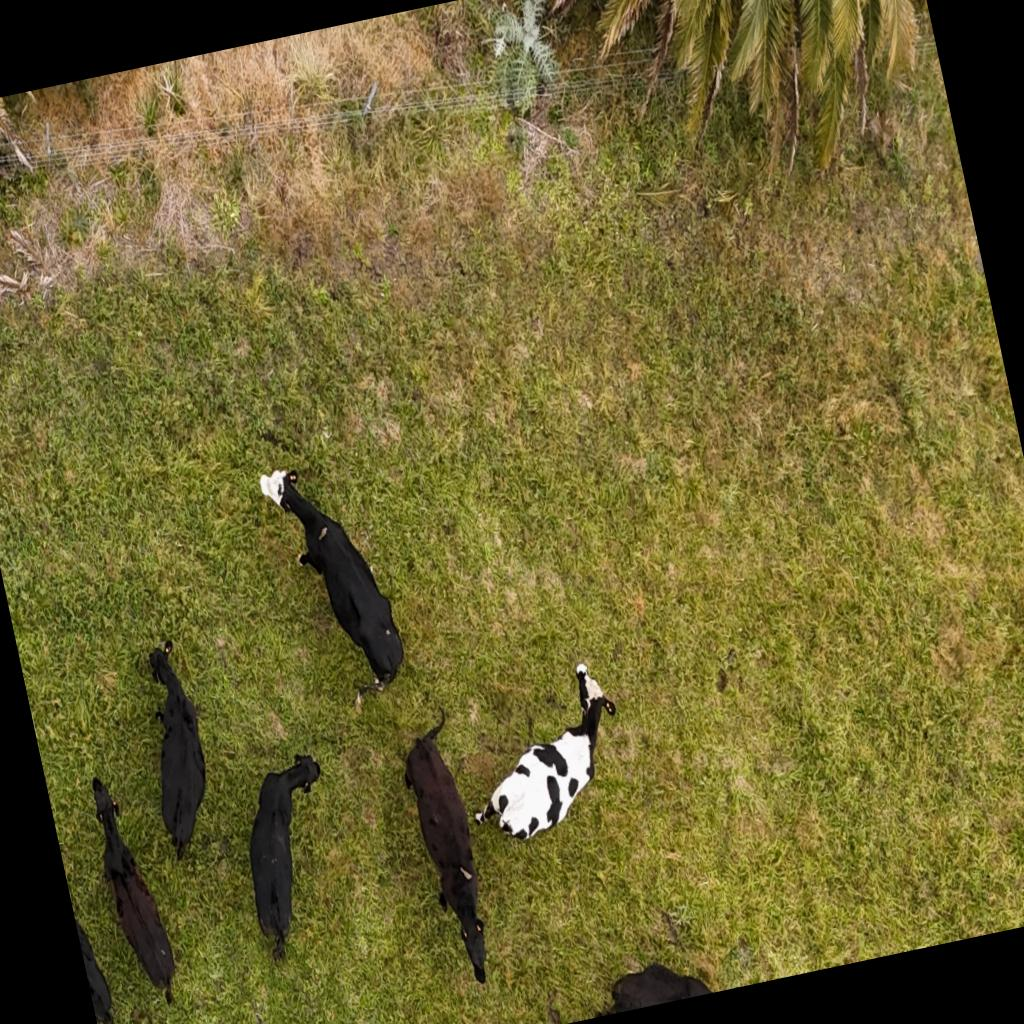cow: (252, 442, 420, 726), (446, 650, 641, 852), (392, 706, 507, 990), (225, 751, 360, 968), (83, 770, 184, 1012), (127, 640, 227, 862), (592, 950, 712, 1016)
